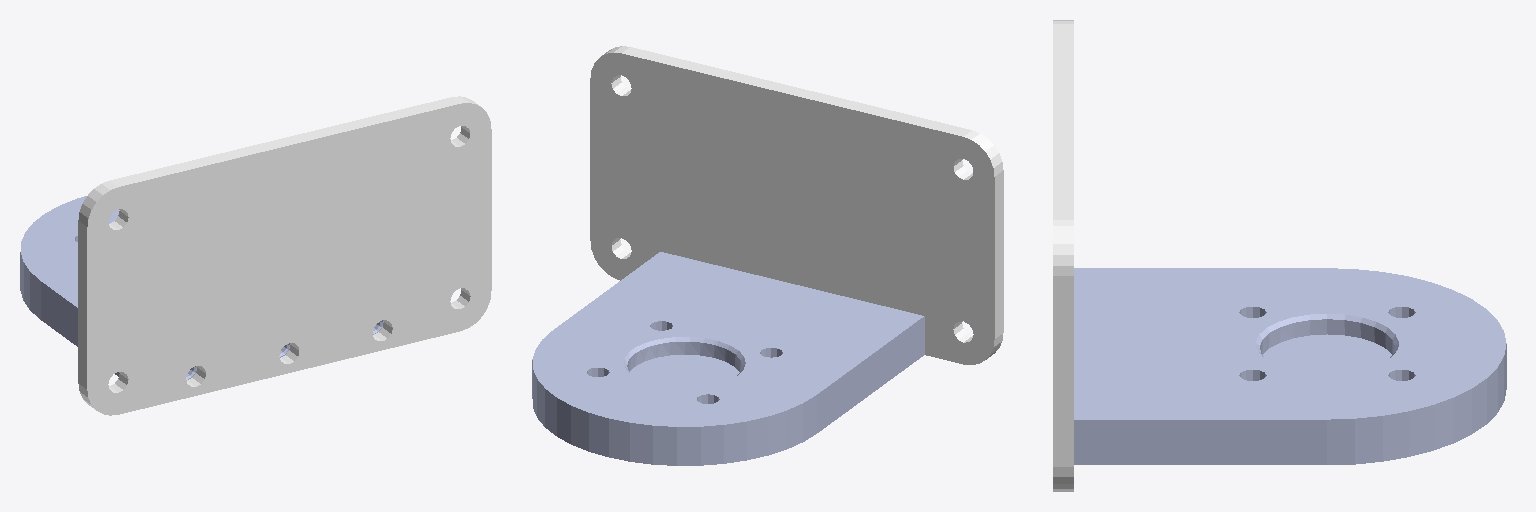
robot.urdf — gw_scanner_mount:
<?xml version="1.0" ?>
<!-- =================================================================================== -->
<!-- |    This document was autogenerated by xacro from /root/work_place/composite_ws/src/mount/gw_scanner_mount_description/urdf/gw_scanner_mount_standalone.urdf.xacro | -->
<!-- |    EDITING THIS FILE BY HAND IS NOT RECOMMENDED                                 | -->
<!-- =================================================================================== -->
<robot name="gw_scanner_mount">
  <link name="map"/>
  <!-- 连接 camera_orin 的 parent frame  -->
  <joint name="gw_scanner_mount_joint" type="fixed">
    <parent link="map"/>
    <child link="gw_scanner_mount_base_link"/>
    <origin rpy="0 0 0" xyz="0 0 0"/>
  </joint>
  <link name="gw_scanner_mount_base_link">
    <inertial>
      <origin rpy="0 0 0" xyz="0 -0.015735 0.0056215"/>
      <mass value="0.074594"/>
      <inertia ixx="6.3454E-05" ixy="3.2515E-21" ixz="-5.5646E-22" iyy="4.7313E-05" iyz="4.4432E-07" izz="0.00010901"/>
    </inertial>
    <visual>
      <origin rpy="0 0 0" xyz="0 0 0"/>
      <geometry>
        <mesh filename="package://gw_scanner_mount_description/meshes/gw_scanner_mount_base_link.STL"/>
      </geometry>
      <material name="">
        <color rgba="0.79216 0.81961 0.93333 1"/>
      </material>
    </visual>
    <collision>
      <origin rpy="0 0 0" xyz="0 0 0"/>
      <geometry>
        <mesh filename="package://gw_scanner_mount_description/meshes/gw_scanner_mount_base_link.STL"/>
      </geometry>
    </collision>
  </link>
  <link name="gw_scanner_support_link">
    <inertial>
      <origin rpy="0 0 0" xyz="1.7347E-17 0.0025 0.00032874"/>
      <mass value="0.043909"/>
      <inertia ixx="1.7367E-05" ixy="-3.8689E-22" ixz="-1.2948E-21" iyy="7.7353E-05" iyz="-3.1669E-24" izz="6.0169E-05"/>
    </inertial>
    <visual>
      <origin rpy="0 0 0" xyz="0 0 0"/>
      <geometry>
        <mesh filename="package://gw_scanner_mount_description/meshes/gw_scanner_support_link.STL"/>
      </geometry>
      <material name="">
        <color rgba="1 1 1 1"/>
      </material>
    </visual>
    <collision>
      <origin rpy="0 0 0" xyz="0 0 0"/>
      <geometry>
        <mesh filename="package://gw_scanner_mount_description/meshes/gw_scanner_support_link.STL"/>
      </geometry>
    </collision>
  </link>
  <joint name="gw_scanner_support_joint" type="fixed">
    <origin rpy="0 0 0" xyz="0 -0.065 0.035"/>
    <parent link="gw_scanner_mount_base_link"/>
    <child link="gw_scanner_support_link"/>
    <axis xyz="0 0 0"/>
  </joint>
  <link name="gripper_support_link"/>
  <joint name="gripper_support_joint" type="fixed">
    <origin rpy="0 0 0" xyz="0 0 0.012"/>
    <parent link="gw_scanner_mount_base_link"/>
    <child link="gripper_support_link"/>
    <axis xyz="0 0 1"/>
  </joint>
</robot>

--- Facts derived from the render (not from the file) ---
The picture shows the robot from 3 angles, left to right: view 1: azimuth 30°, elevation 25°; view 2: azimuth 150°, elevation 25°; view 3: azimuth 270°, elevation 25°; orthographic projection.
Robot: gw_scanner_mount — 4 links, 3 joints (3 fixed); root link map; default pose: every joint at zero.
Links seen in each view (by area): view 1: gw_scanner_support_link, gw_scanner_mount_base_link; view 2: gw_scanner_support_link, gw_scanner_mount_base_link; view 3: gw_scanner_mount_base_link, gw_scanner_support_link.
Boxes of the visible links, x1,y1,x2,y2 form: gw_scanner_support_link: (78,96,491,415); gw_scanner_mount_base_link: (20,196,383,379); gw_scanner_support_link: (590,46,1003,364); gw_scanner_mount_base_link: (532,252,924,465); gw_scanner_mount_base_link: (1074,268,1506,464); gw_scanner_support_link: (1053,20,1073,491).
Size in the robot's own frame: 0.13 by 0.1075 by 0.07 metres.
2 mesh visuals loaded from 2 distinct referenced files (2 binary STL).
